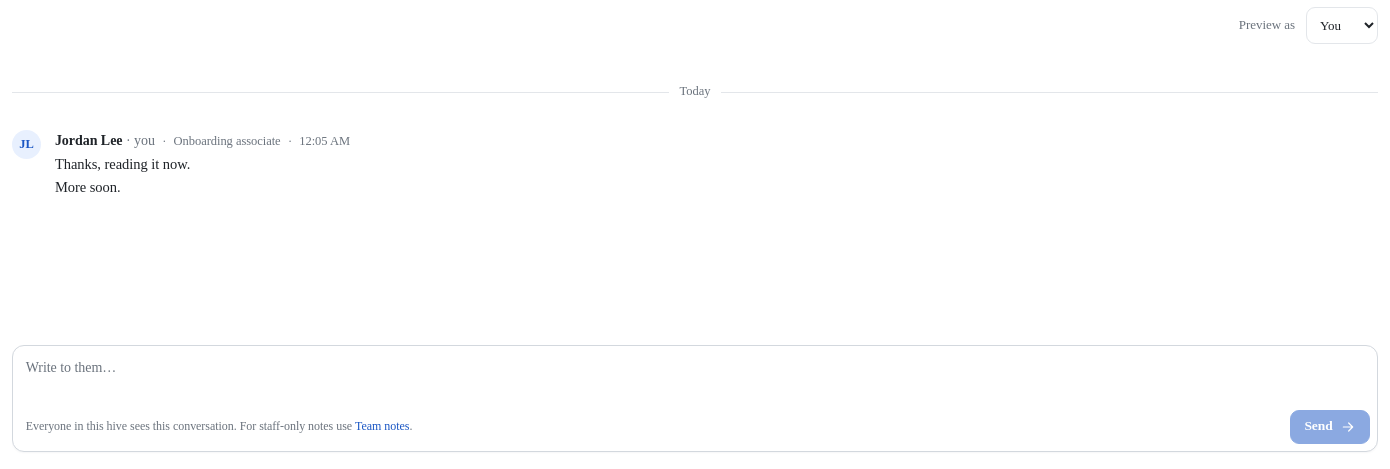
Test: HiveConversation › falls back to the client in the preview line when no name is known
Select "Client" in the dropdown labelled "Preview as" at (1342, 25), box [1306,7,1378,44]
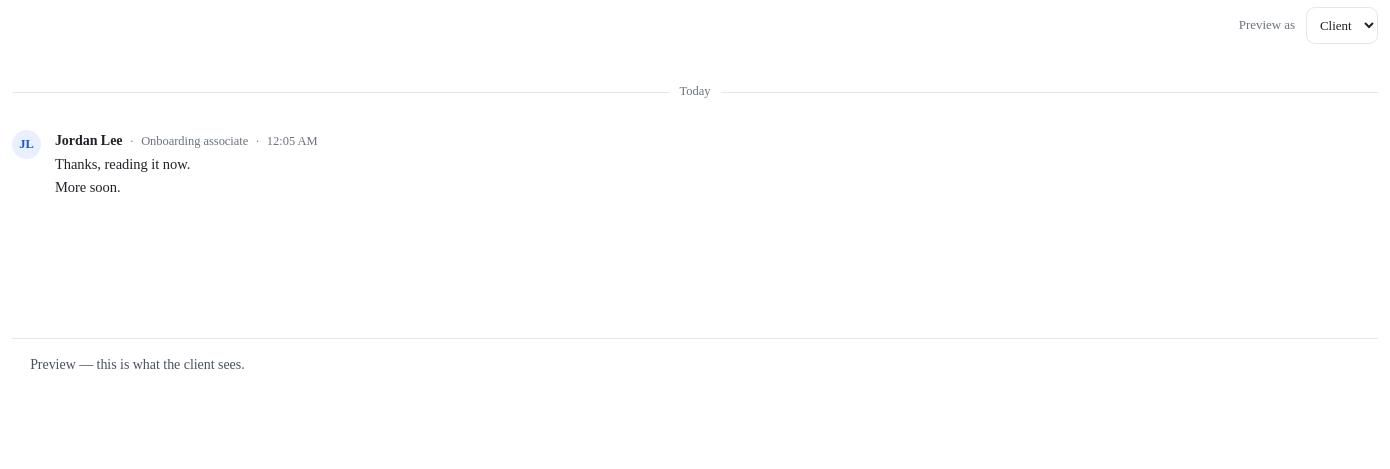
Now the text "Preview — this is what the client sees." is shown, box [12,338,1378,390]
